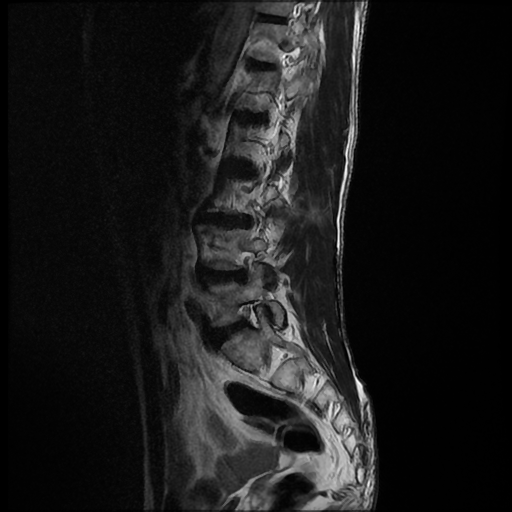LFS0: (228, 295, 275, 339)
